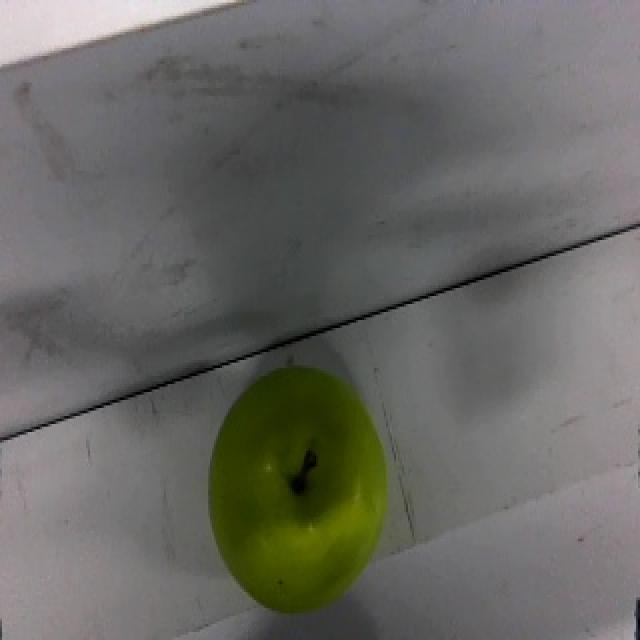apple: (205, 358, 389, 616)
